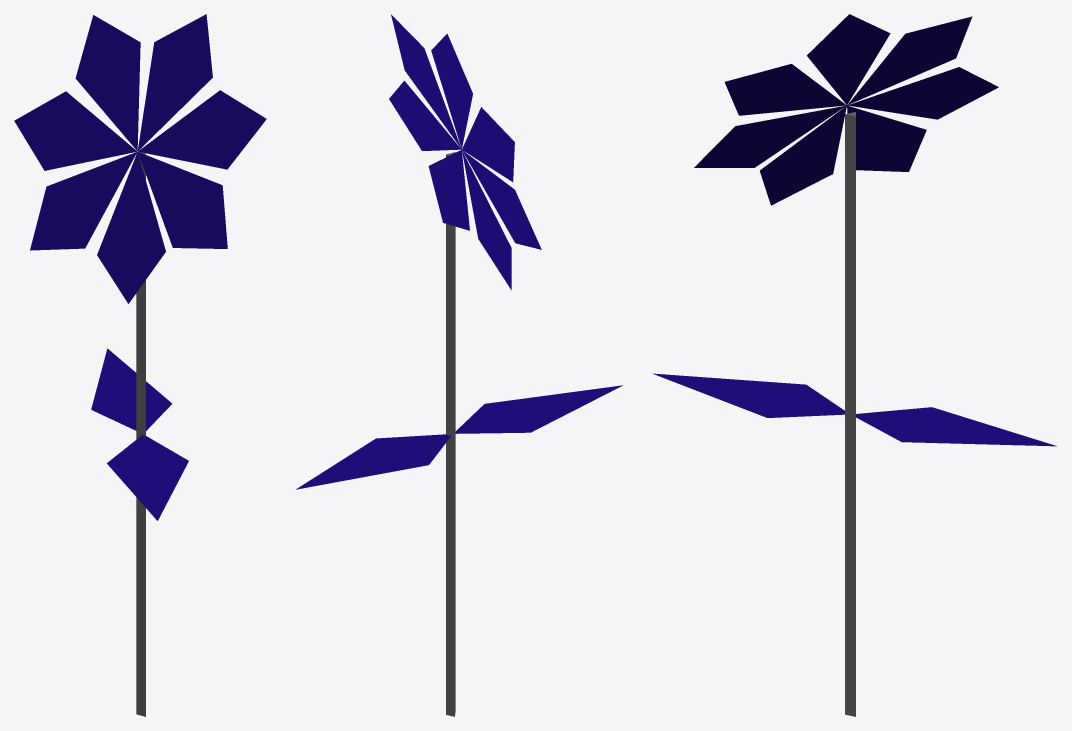
Rendered from plant.obj.
3 renders of one model, left to right at view 1: azimuth 30°, elevation 25°; view 2: azimuth 150°, elevation 25°; view 3: azimuth 270°, elevation 25°, orthographic. The views are drawn at different scales.
Visible parts, largest first — view 1: plant; view 2: plant; view 3: plant.
Boxes of the visible parts, x1,y1,x2,y2 form: plant: [14, 14, 266, 716]; plant: [296, 14, 622, 716]; plant: [653, 14, 1056, 716].
Bounding box in the file's own units: 1.68 × 7.33 × 3.68.
